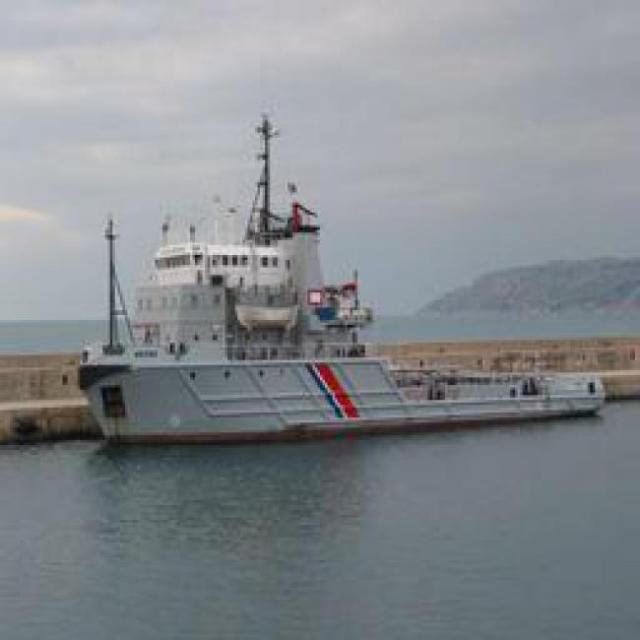boat: (64, 337, 609, 438)
